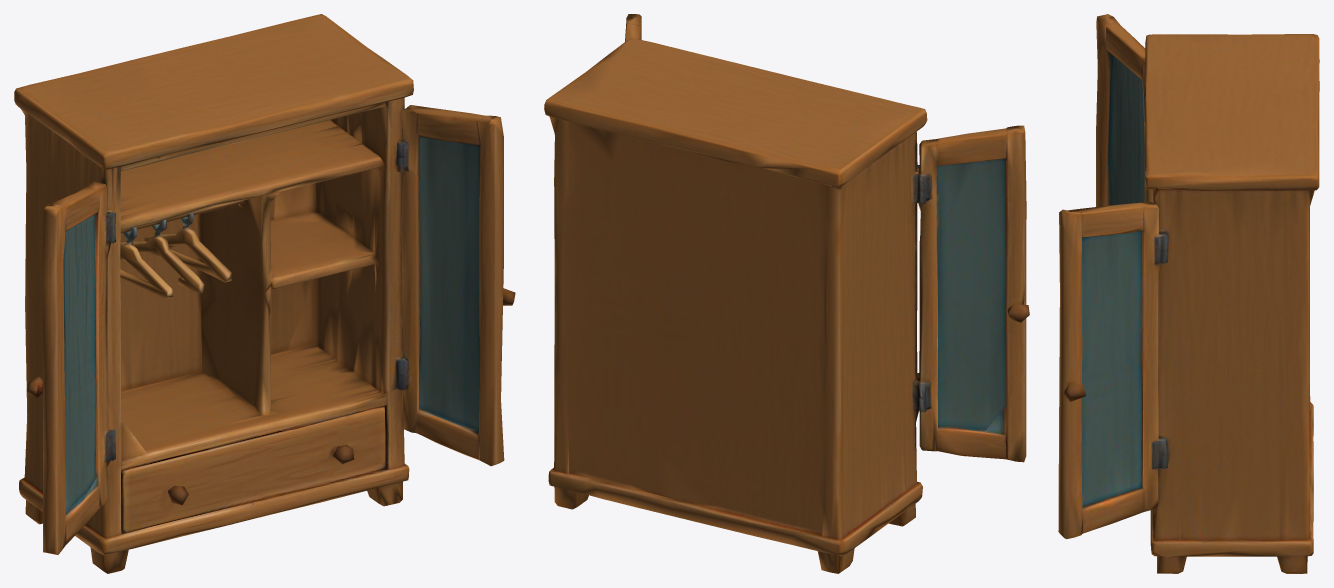
Rendered from wardrobe.glb.
3 views of the same model, side by side, from view 1: azimuth 30°, elevation 25°; view 2: azimuth 150°, elevation 25°; view 3: azimuth 270°, elevation 25° (orthographic). The views are drawn at different scales.
Visible parts, largest first — view 1: tripo_node_4c30dd2f-bbe6-437f-9333-730efe368fcf; view 2: tripo_node_4c30dd2f-bbe6-437f-9333-730efe368fcf; view 3: tripo_node_4c30dd2f-bbe6-437f-9333-730efe368fcf.
Part boxes in pixels (left/top/right/bottom): tripo_node_4c30dd2f-bbe6-437f-9333-730efe368fcf: left=14, top=14, right=515, bottom=573; tripo_node_4c30dd2f-bbe6-437f-9333-730efe368fcf: left=544, top=14, right=1029, bottom=573; tripo_node_4c30dd2f-bbe6-437f-9333-730efe368fcf: left=1058, top=14, right=1319, bottom=573.
Bounding box in the file's own units: 0.9814 × 0.8624 × 0.5075.
1 material, 1 textured.
